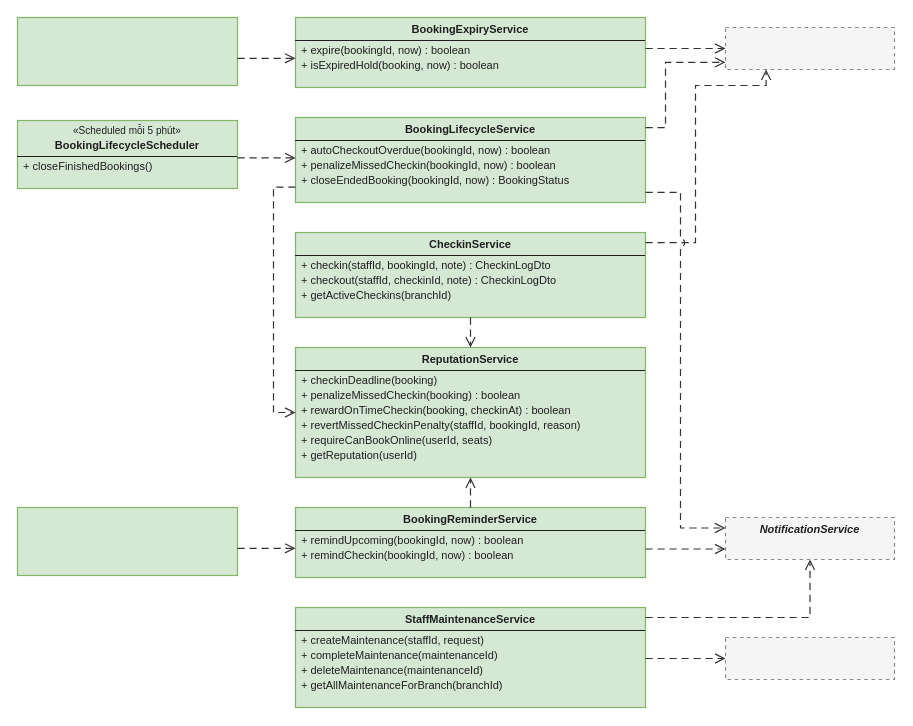
The diagram is 913 pixels wide and 726 high, and some of its shapes have lost their labels. Each missing label, with the centre of its shape:
"BookingAddonService" belongs at [809,48].
"CancellationService" belongs at [809,658].
"«Scheduled mỗi 30 giây» BookingExpiryScheduler + expirePendingBookings()" belongs at [127,51].
"«Scheduled mỗi phút» BookingReminderScheduler + sendReminders()" belongs at [127,541].
